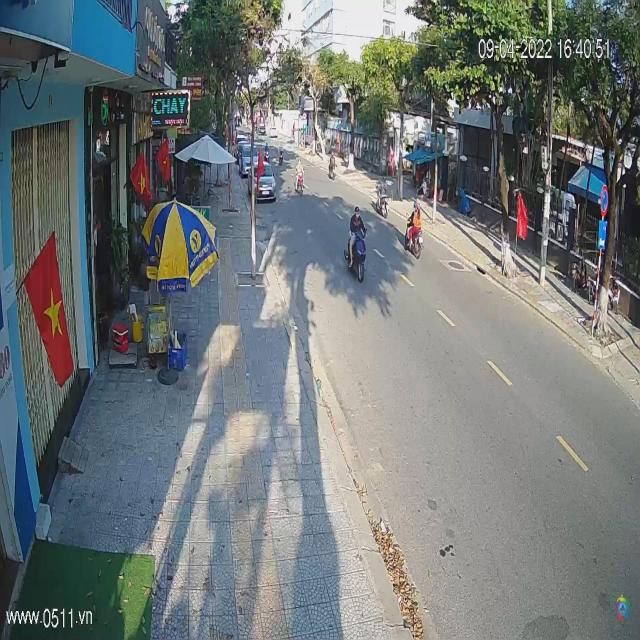car: (248, 159, 276, 201)
motorcycle: (345, 224, 367, 289), (404, 211, 424, 260), (296, 168, 305, 196)
